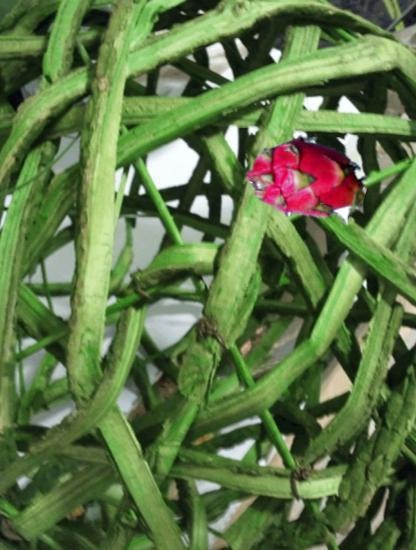Pitahaya: (246, 116, 368, 238)
